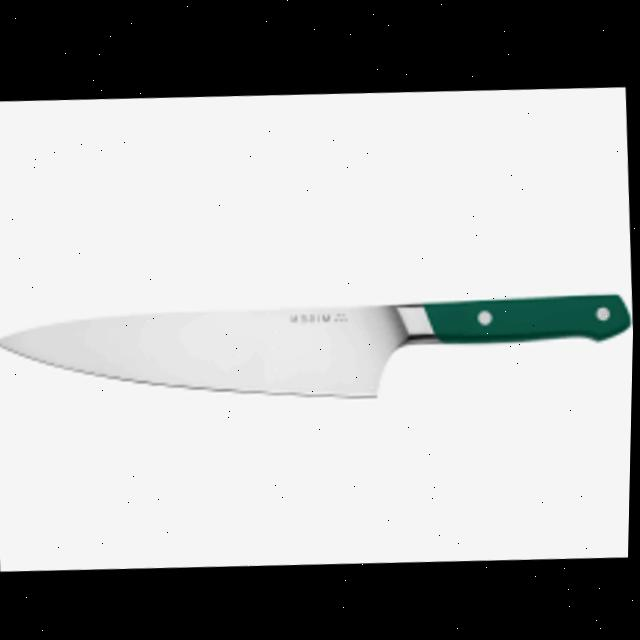Knife: (0, 271, 635, 421)
